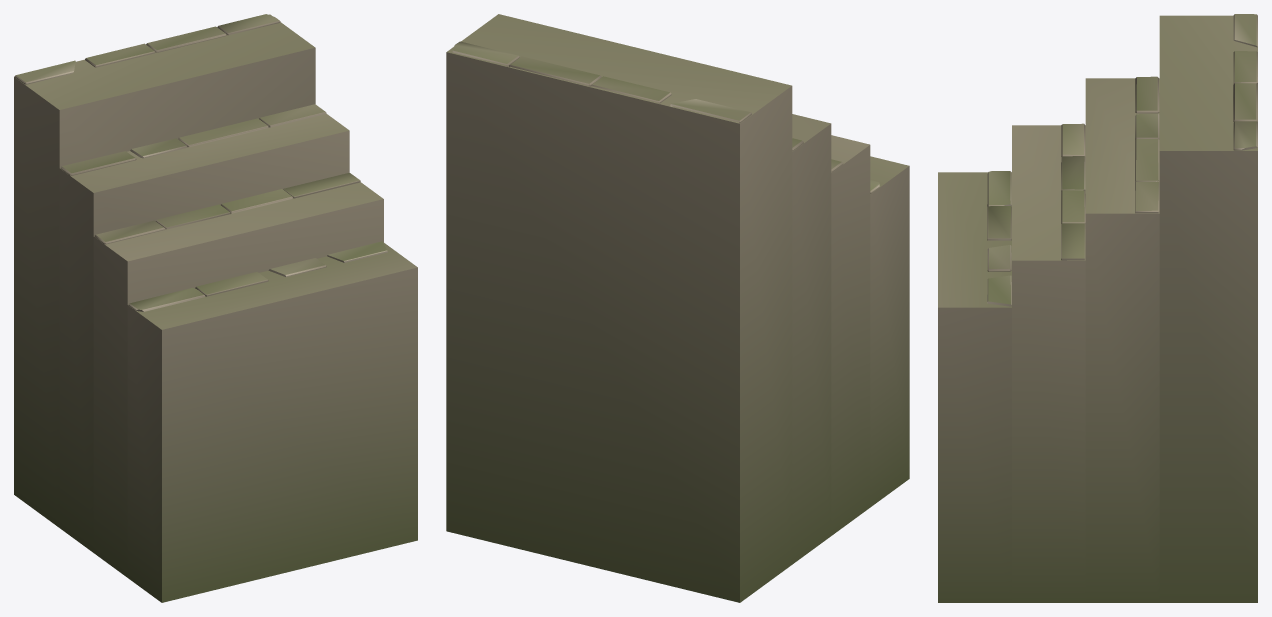
File: sanctuary_stair.glb
3 views of the same model, side by side, from view 1: azimuth 30°, elevation 25°; view 2: azimuth 150°, elevation 25°; view 3: azimuth 270°, elevation 25° (orthographic). The views are drawn at different scales.
Parts seen in each view (by area): view 1: sanctuary_stair_far, sanctuary_stair; view 2: sanctuary_stair_far, sanctuary_stair; view 3: sanctuary_stair_far, sanctuary_stair.
Boxes of the visible parts, x1=… form: sanctuary_stair_far: x1=14, y1=14, x2=417, y2=602; sanctuary_stair: x1=14, y1=14, x2=387, y2=311; sanctuary_stair_far: x1=446, y1=14, x2=909, y2=602; sanctuary_stair: x1=452, y1=41, x2=879, y2=193; sanctuary_stair_far: x1=938, y1=15, x2=1257, y2=602; sanctuary_stair: x1=987, y1=14, x2=1257, y2=306.
Bounding box in the file's own units: 18.5 × 29.01 × 18.5.
